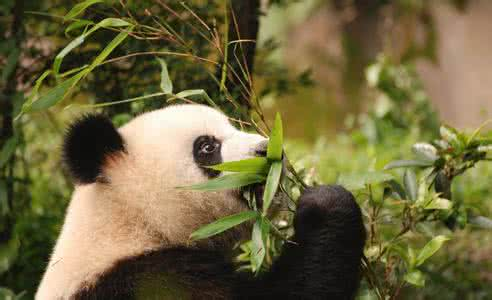panda: (31, 101, 367, 300)
